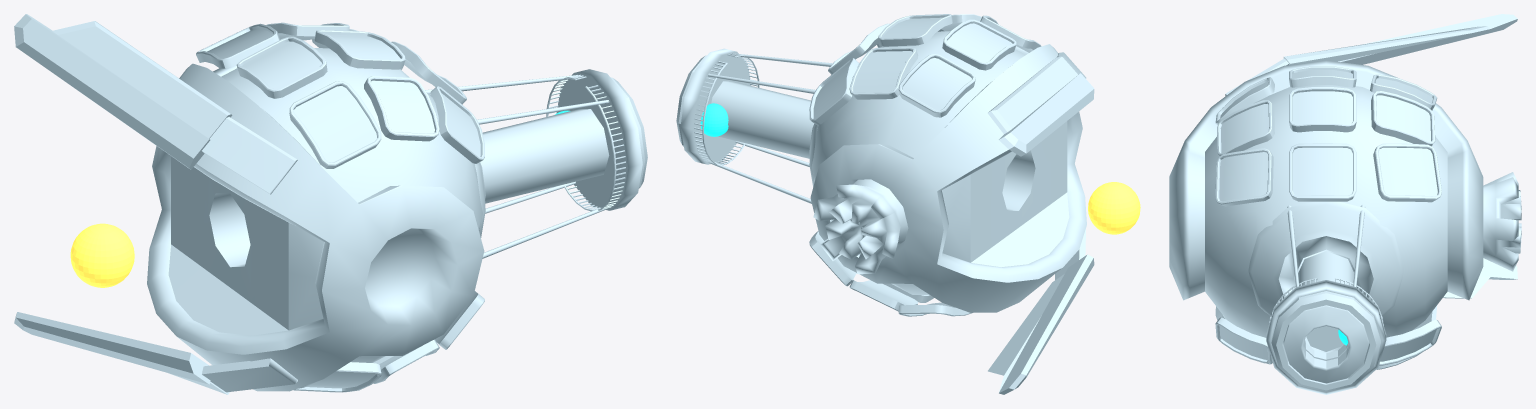
Rendered from aero-airship-hero.glb.
The picture shows the model from 3 angles, left to right: view 1: azimuth 30°, elevation 25°; view 2: azimuth 150°, elevation 25°; view 3: azimuth 270°, elevation 25°; orthographic projection. The views are drawn at different scales.
Visible parts, largest first — view 1: AI_PM_airship_hero, AI_PM_airship_hero_Aero_airship_screens_01, AI_PM_airship_hero_Aero_airship_wing_01, AI_PM_airship_hero_ray, AI_PM_airship_hero_Aero_airship_base_01, AI_PM_airship_hero_Aero_airship_wing_02, AI_PM_airship_rear_thruster; view 2: AI_PM_airship_hero, AI_PM_airship_hero_Aero_airship_screens_01, AI_PM_airship_hero_Aero_airship_wing_01, AI_PM_airship_hero_ray, AI_PM_airship_hero_Aero_airship_wing_02, AI_PM_airship_hero_Aero_airship_base_01, AI_PM_airship_rear_thruster, AI_PM_airship_front_light; view 3: AI_PM_airship_hero, AI_PM_airship_hero_Aero_airship_screens_01, AI_PM_airship_hero_Aero_airship_base_01, AI_PM_airship_hero_Aero_airship_wing_01, AI_PM_airship_hero_ray, AI_PM_airship_hero_Aero_airship_wing_02, AI_PM_airship_hero_Aero_elevator_01.
Part boxes in pixels (x1,y1,x2,y2): AI_PM_airship_hero: (147,48,609,391); AI_PM_airship_hero_Aero_airship_screens_01: (196,22,484,392); AI_PM_airship_hero_Aero_airship_wing_01: (14,14,297,194); AI_PM_airship_hero_ray: (475,109,609,203); AI_PM_airship_hero_Aero_airship_base_01: (546,69,647,211); AI_PM_airship_hero_Aero_airship_wing_02: (14,312,297,394); AI_PM_airship_rear_thruster: (70,223,134,287); AI_PM_airship_hero: (708,31,1086,312); AI_PM_airship_hero_Aero_airship_screens_01: (809,14,1041,316); AI_PM_airship_hero_Aero_airship_wing_01: (987,52,1094,156); AI_PM_airship_hero_ray: (711,81,814,158); AI_PM_airship_hero_Aero_airship_wing_02: (988,229,1094,394); AI_PM_airship_hero_Aero_airship_base_01: (676,48,759,164); AI_PM_airship_rear_thruster: (1088,182,1140,234); AI_PM_airship_front_light: (700,103,728,136); AI_PM_airship_hero: (1169,60,1521,337); AI_PM_airship_hero_Aero_airship_screens_01: (1215,66,1441,369); AI_PM_airship_hero_Aero_airship_base_01: (1266,277,1386,394); AI_PM_airship_hero_Aero_airship_wing_01: (1225,14,1517,95); AI_PM_airship_hero_ray: (1298,251,1356,353); AI_PM_airship_hero_Aero_airship_wing_02: (1443,258,1517,298); AI_PM_airship_hero_Aero_elevator_01: (1306,326,1342,351).
Size of the model in its own units: 1.08 by 0.6326 by 0.7156.
